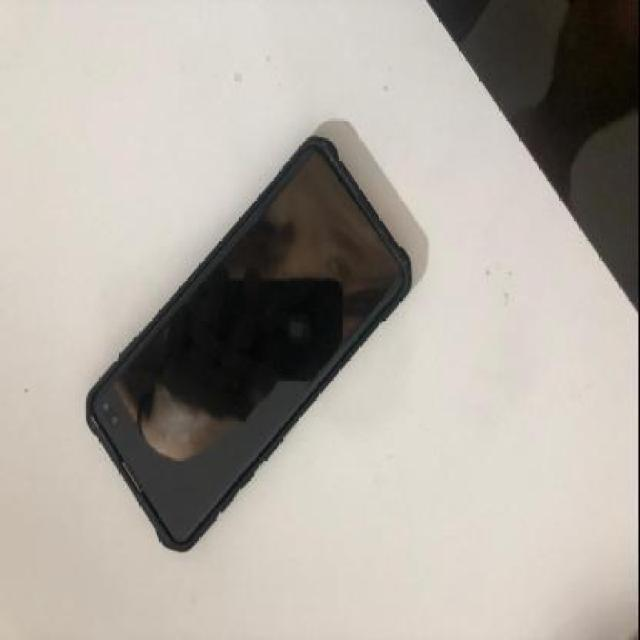mobile: (78, 137, 414, 552)
